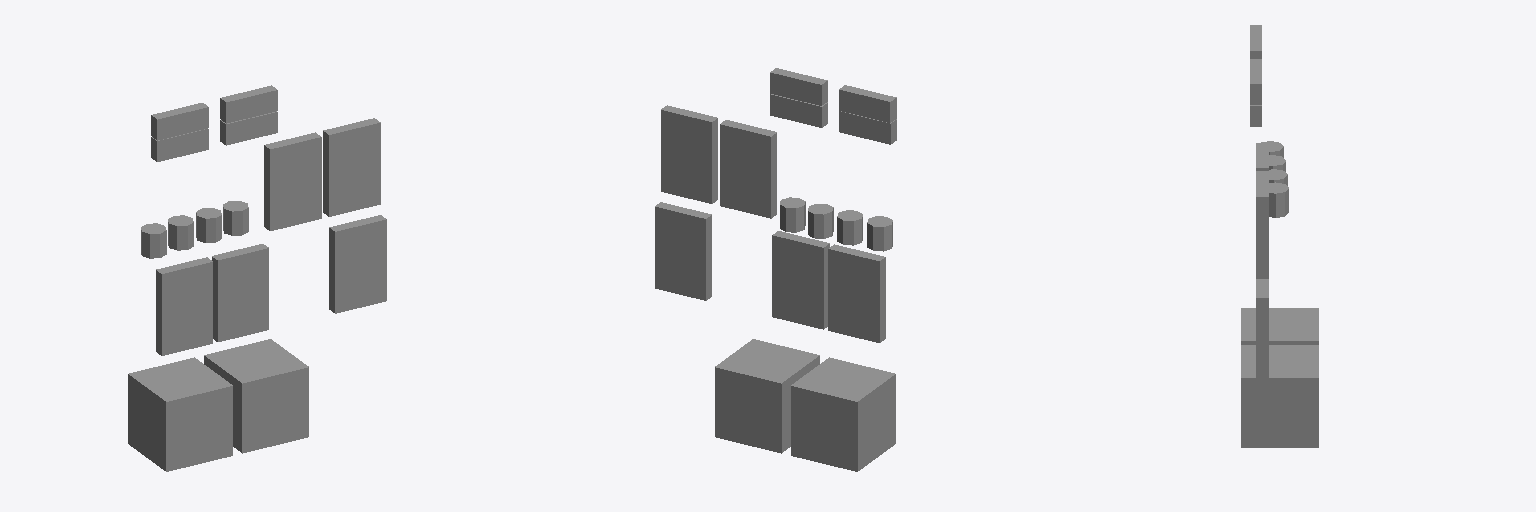
The model's file is Shelf_Items_v1.obj.
The picture shows the model from 3 angles: view 1: azimuth 30°, elevation 25°; view 2: azimuth 150°, elevation 25°; view 3: azimuth 270°, elevation 25°; orthographic projection.
Visible parts, largest first — view 1: Cube.014_Cube.084; view 2: Cube.014_Cube.084; view 3: Cube.014_Cube.084.
Boxes of the visible parts, x1=… form: Cube.014_Cube.084: x1=128, y1=85, x2=386, y2=471; Cube.014_Cube.084: x1=655, y1=68, x2=896, y2=471; Cube.014_Cube.084: x1=1241, y1=25, x2=1318, y2=447.
Bounding box in the file's own units: 1.72 × 2.43 × 0.4853.